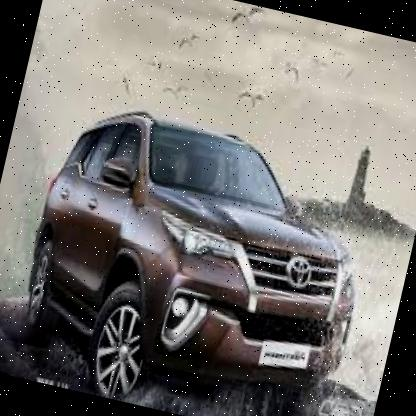car: (0, 84, 402, 416)
